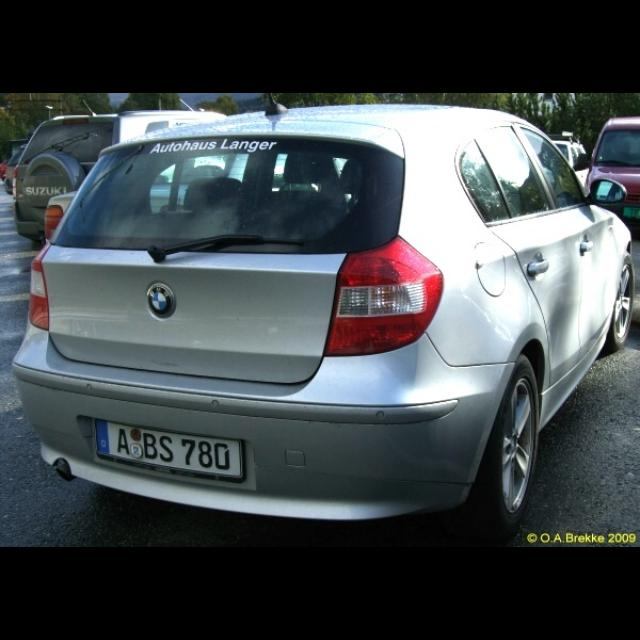d_license_plate: (96, 418, 238, 478)
